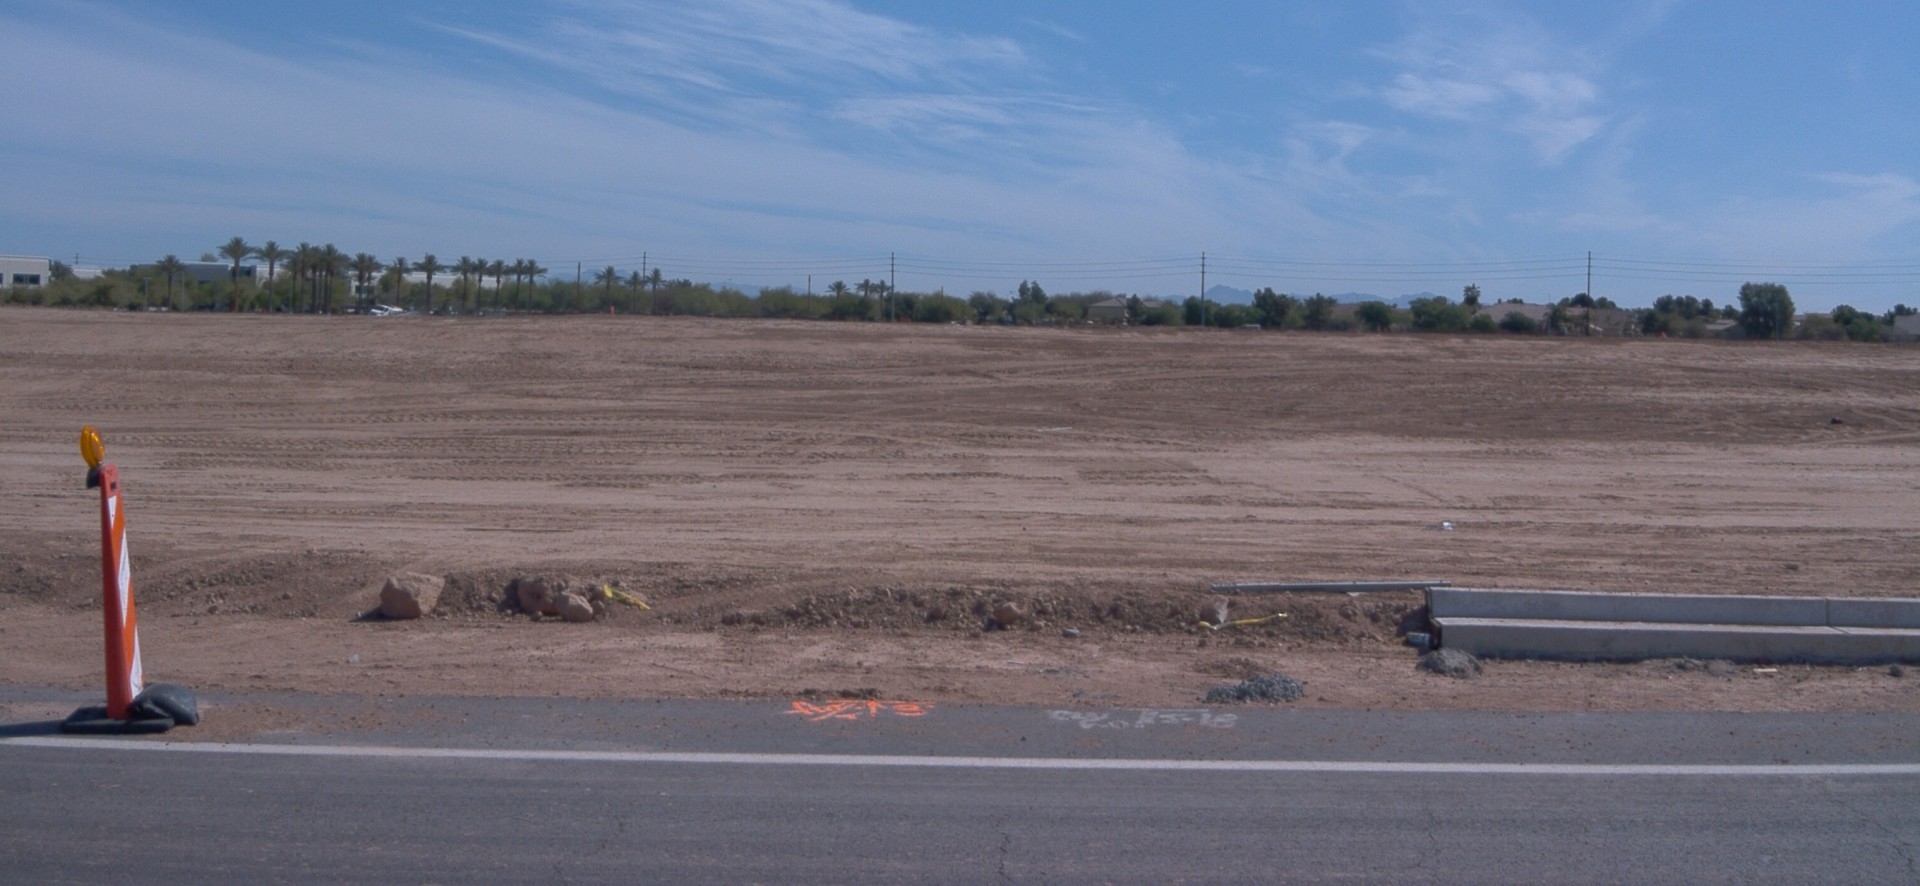TYPE_VEHICLE: (370, 302, 404, 317), (370, 302, 404, 317), (370, 302, 404, 317), (370, 302, 404, 317)
